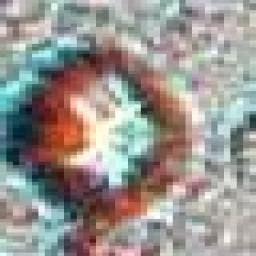crystals: (0, 50, 191, 243)
